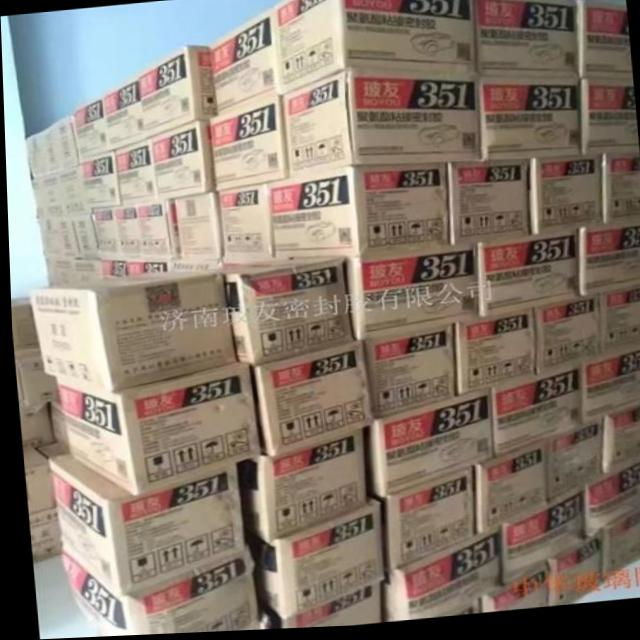box: (43, 453, 240, 598), (52, 363, 260, 498), (26, 272, 235, 392), (280, 72, 479, 181), (271, 0, 476, 96), (57, 543, 254, 638), (269, 167, 448, 261), (241, 501, 380, 622), (212, 261, 353, 368), (233, 432, 365, 544), (360, 393, 492, 502), (248, 342, 371, 458), (342, 246, 477, 343), (378, 531, 498, 626), (382, 470, 471, 576), (475, 234, 578, 322), (486, 367, 580, 461), (362, 328, 452, 423), (478, 82, 579, 165), (475, 0, 578, 81), (495, 490, 580, 587), (207, 97, 287, 193), (208, 10, 280, 116), (137, 46, 216, 139), (472, 444, 545, 540), (445, 165, 529, 248), (453, 313, 533, 400), (526, 159, 602, 239), (529, 299, 597, 381), (147, 121, 213, 201), (541, 424, 601, 506), (578, 223, 640, 301), (578, 83, 638, 159), (576, 4, 632, 85), (217, 184, 271, 268), (580, 356, 640, 431), (279, 586, 378, 631), (582, 469, 640, 542), (544, 534, 598, 611), (474, 567, 544, 617), (100, 78, 147, 152), (174, 193, 222, 261), (596, 289, 640, 363), (598, 519, 640, 589), (599, 158, 640, 228), (113, 139, 156, 205), (599, 413, 640, 481), (133, 201, 179, 255), (69, 98, 107, 161), (13, 348, 54, 406), (80, 151, 120, 209), (42, 116, 80, 174), (21, 448, 51, 515), (25, 507, 57, 562), (35, 402, 65, 459), (51, 166, 86, 213), (16, 404, 51, 451), (61, 211, 97, 254), (87, 208, 119, 255), (113, 205, 141, 254), (30, 175, 61, 218), (9, 299, 34, 351), (24, 131, 50, 179), (127, 254, 179, 277), (35, 215, 64, 254), (42, 253, 73, 289), (72, 254, 101, 281), (99, 254, 127, 278), (172, 261, 220, 273)
